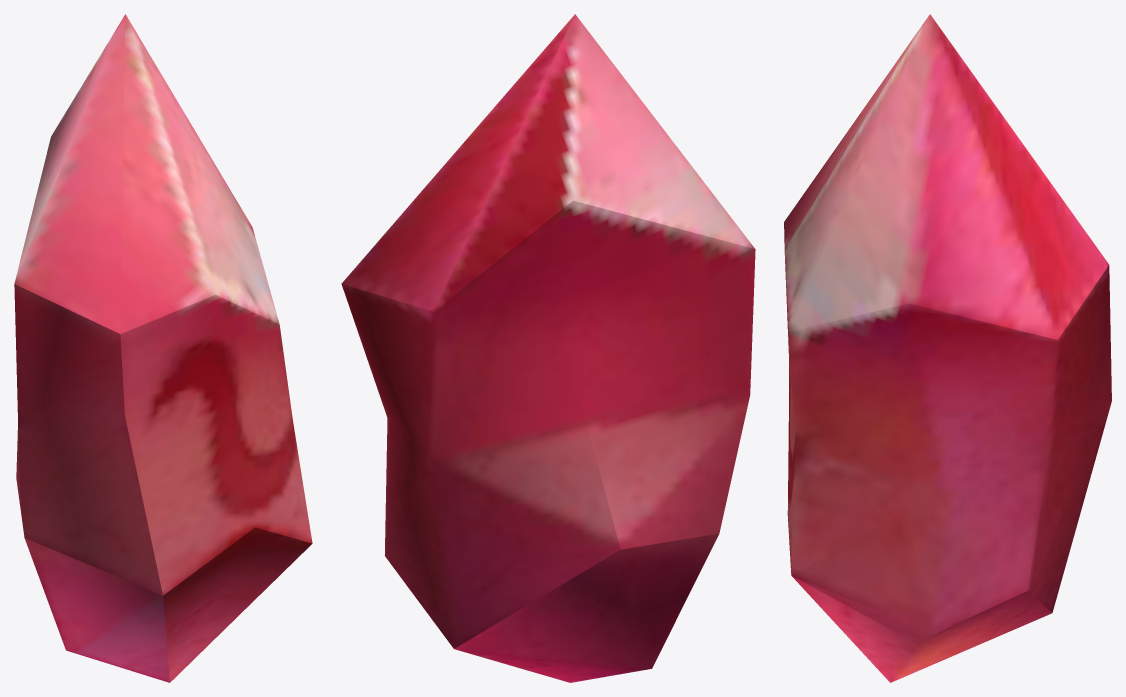
Rendered from hunshi.fbx.
3 renders of one model, left to right at view 1: azimuth 30°, elevation 25°; view 2: azimuth 150°, elevation 25°; view 3: azimuth 270°, elevation 25°, orthographic. The views are drawn at different scales.
Visible parts, largest first — view 1: hunshi111; view 2: hunshi111; view 3: hunshi111.
Part boxes in pixels (x1,y1,x2,y2): hunshi111: (14, 14, 312, 682); hunshi111: (341, 14, 755, 682); hunshi111: (784, 14, 1111, 682).
Bounding box in the file's own units: 0.7942 × 1.63 × 0.7359.
